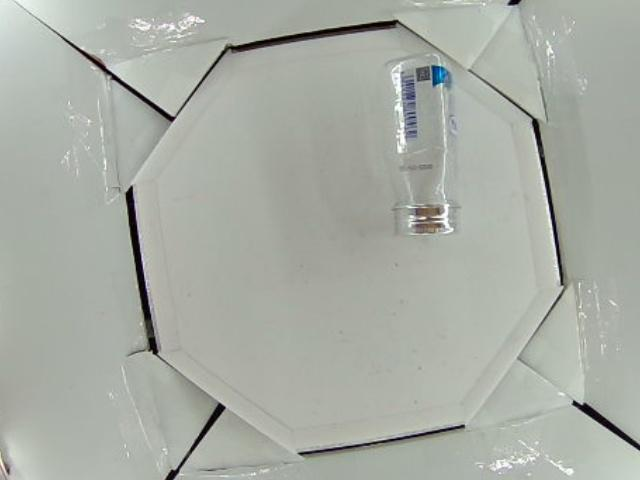Bottle: (384, 55, 461, 239)
